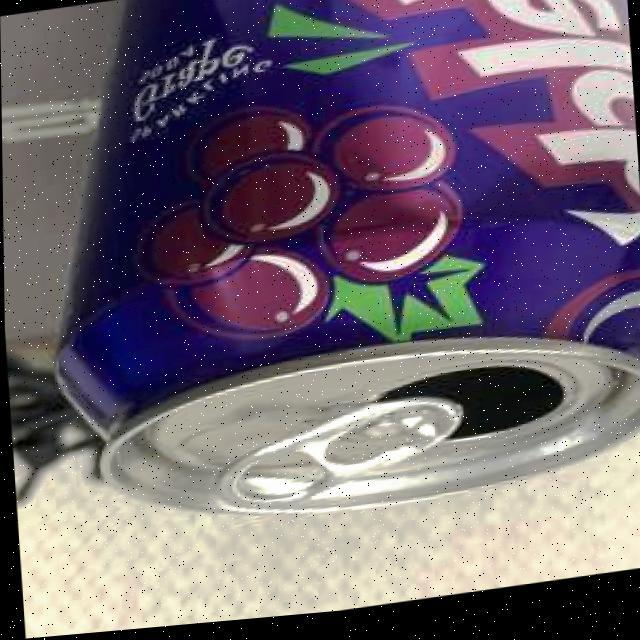Lata: (53, 0, 640, 603)
